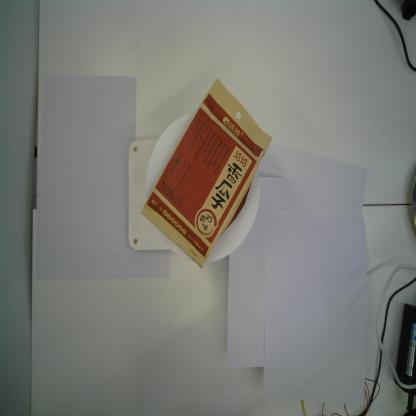Dried Food: (138, 78, 274, 274)
